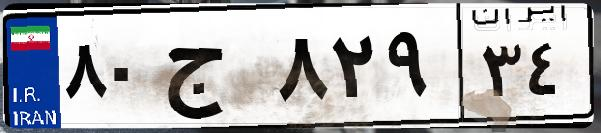0: (110, 28, 158, 98)
2: (330, 28, 385, 110)
3: (475, 38, 525, 113)
4: (525, 38, 570, 115)
8: (270, 28, 330, 110), (57, 26, 110, 100)
9: (385, 28, 445, 110)
ج: (158, 20, 270, 120)
